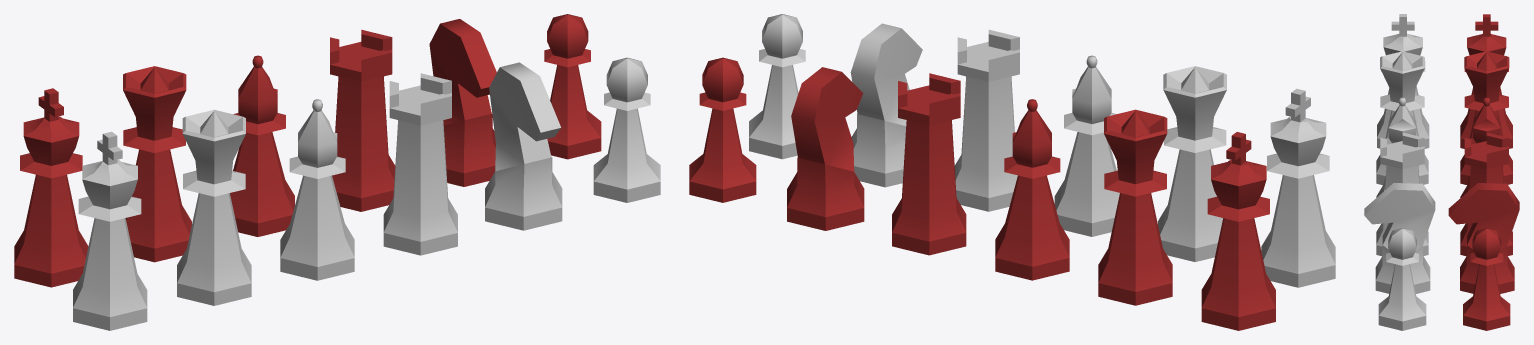
Rendered from chess.obj.
The picture shows the model from 3 angles, left to right: view 1: azimuth 30°, elevation 25°; view 2: azimuth 150°, elevation 25°; view 3: azimuth 270°, elevation 25°; orthographic projection. The views are drawn at different scales.
Parts seen in each view (by area): view 1: Queen_Sphere.007, Rook_Sphere.002, Knight_Sphere.005, King_Sphere.008, King.001_Sphere.009, Queen.001_Sphere.010, Rook.001_Sphere.014, Bishop_Sphere.006, Knight.001_Sphere.012, Bishop.001_Sphere.011, Pawn_Sphere.003, Pawn.001_Sphere.013; view 2: Queen.001_Sphere.010, Rook.001_Sphere.014, King.001_Sphere.009, Knight.001_Sphere.012, King_Sphere.008, Queen_Sphere.007, Rook_Sphere.002, Bishop.001_Sphere.011, Knight_Sphere.005, Bishop_Sphere.006, Pawn.001_Sphere.013, Pawn_Sphere.003; view 3: Knight_Sphere.005, Knight.001_Sphere.012, Pawn_Sphere.003, Pawn.001_Sphere.013, Queen_Sphere.007, Queen.001_Sphere.010, Rook.001_Sphere.014, Rook_Sphere.002, King_Sphere.008, King.001_Sphere.009, Bishop_Sphere.006, Bishop.001_Sphere.011.
Part boxes in pixels (box(x1,y1,x2,y2)): Queen_Sphere.007: box(177, 109, 251, 305); Rook_Sphere.002: box(383, 73, 457, 255); Knight_Sphere.005: box(485, 62, 562, 230); King_Sphere.008: box(73, 131, 147, 330); King.001_Sphere.009: box(14, 88, 88, 287); Queen.001_Sphere.010: box(123, 66, 191, 262); Rook.001_Sphere.014: box(330, 29, 395, 211); Bishop_Sphere.006: box(280, 99, 354, 280); Knight.001_Sphere.012: box(429, 19, 496, 186); Bishop.001_Sphere.011: box(230, 55, 294, 236); Pawn_Sphere.003: box(593, 57, 660, 202); Pawn.001_Sphere.013: box(544, 14, 601, 159); Queen.001_Sphere.010: box(1098, 109, 1172, 305); Rook.001_Sphere.014: box(892, 73, 966, 255); King.001_Sphere.009: box(1201, 132, 1275, 330); Knight.001_Sphere.012: box(787, 67, 864, 230); King_Sphere.008: box(1261, 88, 1335, 287); Queen_Sphere.007: box(1158, 66, 1226, 261); Rook_Sphere.002: box(954, 29, 1019, 211); Bishop.001_Sphere.011: box(995, 99, 1069, 280); Knight_Sphere.005: box(850, 23, 922, 187); Bishop_Sphere.006: box(1054, 55, 1119, 236); Pawn.001_Sphere.013: box(689, 57, 756, 202); Pawn_Sphere.003: box(749, 14, 805, 159); Knight_Sphere.005: box(1364, 183, 1435, 293); Knight.001_Sphere.012: box(1448, 183, 1519, 293); Pawn_Sphere.003: box(1378, 228, 1426, 330); Pawn.001_Sphere.013: box(1463, 228, 1510, 330); Queen_Sphere.007: box(1376, 51, 1428, 185); Queen.001_Sphere.010: box(1460, 51, 1512, 184); Rook.001_Sphere.014: box(1460, 132, 1512, 256); Rook_Sphere.002: box(1376, 132, 1428, 256); King_Sphere.008: box(1377, 14, 1429, 148); King.001_Sphere.009: box(1460, 14, 1512, 148); Bishop_Sphere.006: box(1376, 97, 1421, 197); Bishop.001_Sphere.011: box(1460, 97, 1505, 197).
Size of what is drawn, in the model's own units: 2.28 by 0.6593 by 0.7368.
